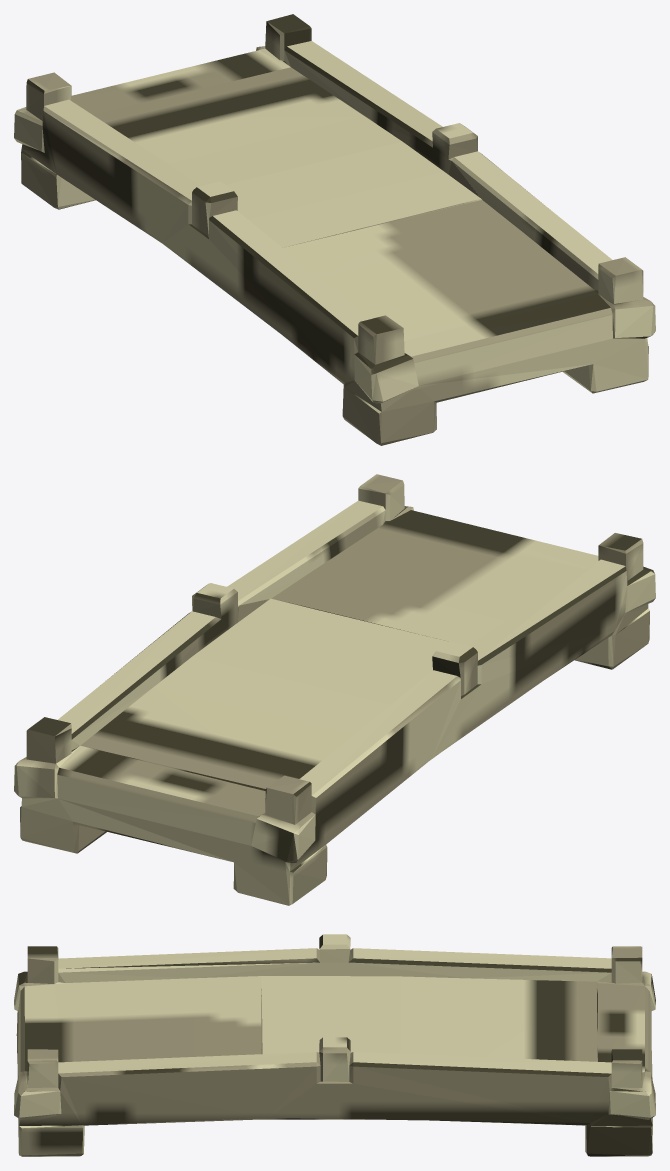
File: Bridge.fbx
3 renders of one model, top to bottom at view 1: azimuth 30°, elevation 25°; view 2: azimuth 150°, elevation 25°; view 3: azimuth 270°, elevation 25°, orthographic. The views are drawn at different scales.
Parts seen in each view (by area): view 1: prop; view 2: prop; view 3: prop.
Boxes of the visible parts, box(x1,y1,x2,y2) form: prop: box(14, 14, 655, 445); prop: box(14, 474, 655, 905); prop: box(14, 934, 655, 1156).
Bounding box in the file's own units: 1.8 × 0.75 × 4.
